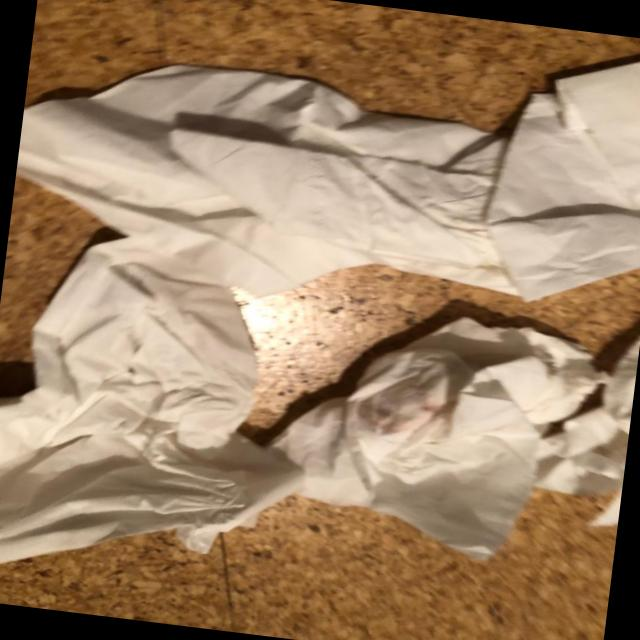organic waste: (4, 38, 546, 326), (0, 221, 329, 610), (248, 291, 606, 581), (475, 25, 640, 315), (524, 327, 640, 529)
